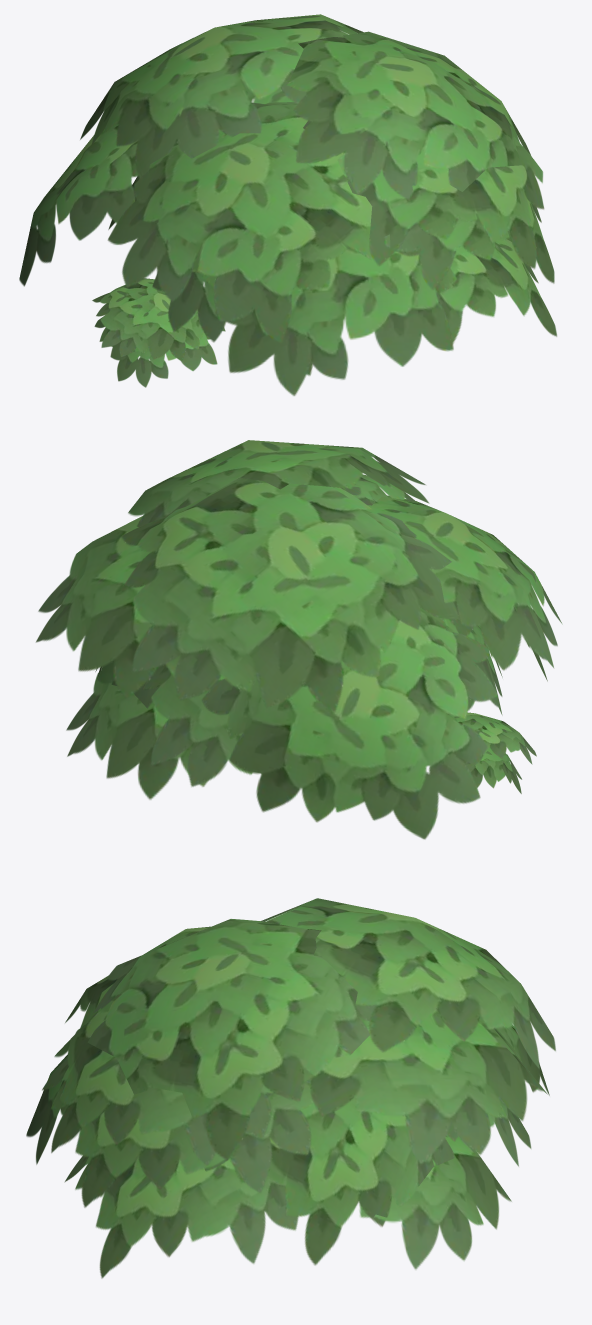
Rendered from bush.glb.
3 views of the same model, one above another, from view 1: azimuth 30°, elevation 25°; view 2: azimuth 150°, elevation 25°; view 3: azimuth 270°, elevation 25° (orthographic). The views are drawn at different scales.
Visible parts, largest first — view 1: Bush_Large; view 2: Bush_Large; view 3: Bush_Large.
Part boxes in pixels (left/top/right/bottom): Bush_Large: left=19, top=14, right=556, bottom=395; Bush_Large: left=36, top=440, right=561, bottom=839; Bush_Large: left=26, top=898, right=555, bottom=1278.
Bounding box in the file's own units: 2.07 × 1.19 × 2.07.
Materials: 1 (1 with a texture image).
